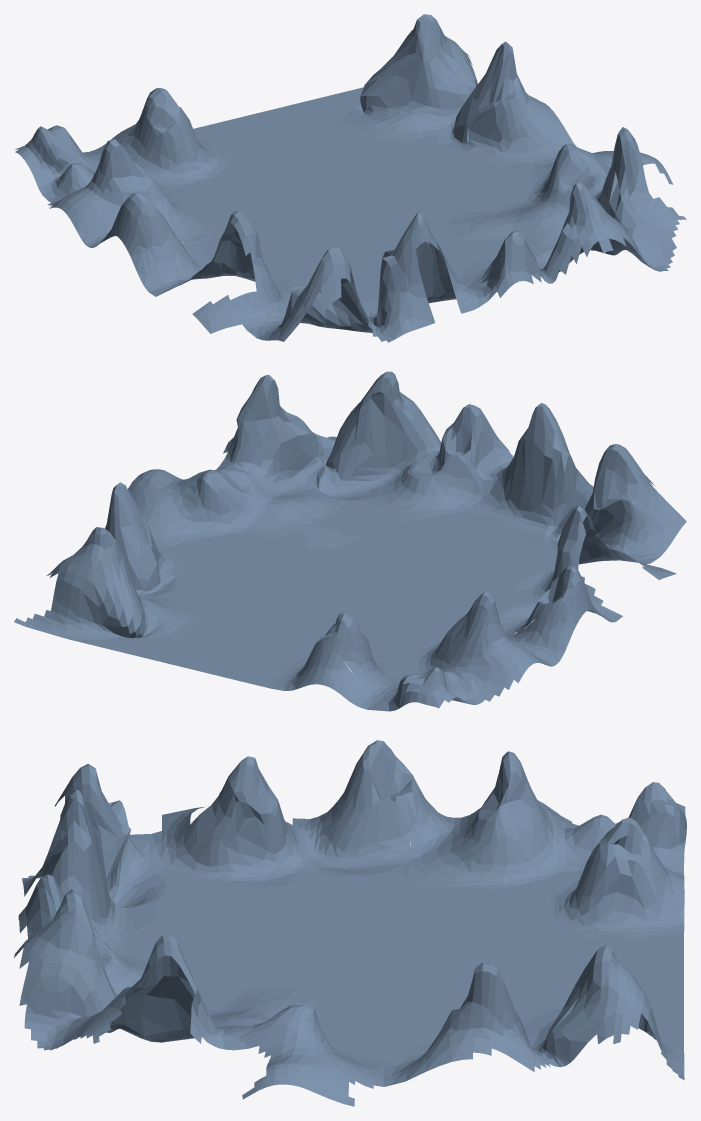
The picture shows the model from 3 angles, top to bottom: view 1: azimuth 30°, elevation 25°; view 2: azimuth 150°, elevation 25°; view 3: azimuth 270°, elevation 25°; orthographic projection. The views are drawn at different scales.
Parts seen in each view (by area): view 1: Grid; view 2: Grid; view 3: Grid.
Boxes of the visible parts, box(x1,y1,x2,y2) form: Grid: box(14, 14, 686, 342); Grid: box(14, 371, 686, 711); Grid: box(14, 740, 686, 1106).
Bounding box in the file's own units: 200 × 46.64 × 197.
